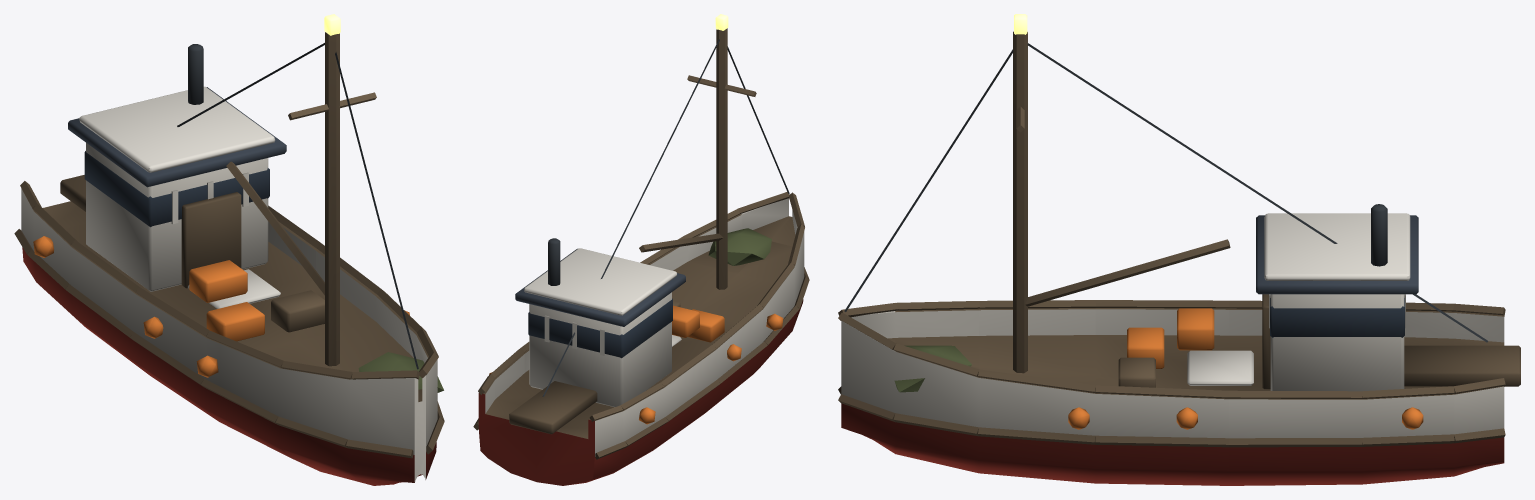
Rendered from boat.glb.
The picture shows the model from 3 angles, left to right: view 1: azimuth 30°, elevation 25°; view 2: azimuth 150°, elevation 25°; view 3: azimuth 270°, elevation 25°; orthographic projection. The views are drawn at different scales.
Parts seen in each view (by area): view 1: boat_wood, boat_white_paint, boat_red_timber, boat_snow, boat_signal_orange, boat_glass, boat_slate, boat_iron, boat_olive; view 2: boat_wood, boat_white_paint, boat_red_timber, boat_snow, boat_glass, boat_signal_orange, boat_slate, boat_iron, boat_olive; view 3: boat_white_paint, boat_wood, boat_red_timber, boat_snow, boat_signal_orange, boat_glass, boat_slate, boat_iron, boat_olive.
Boxes of the visible parts, box(x1,y1,x2,y2) form: boat_wood: box(14, 32, 444, 458); boat_white_paint: box(21, 143, 437, 481); boat_red_timber: box(22, 247, 436, 485); boat_snow: box(79, 86, 280, 308); boat_signal_orange: box(33, 236, 409, 377); boat_glass: box(84, 151, 269, 227); boat_slate: box(68, 87, 286, 187); boat_iron: box(177, 43, 418, 369); boat_olive: box(358, 352, 443, 392); boat_wood: box(473, 28, 809, 459); boat_white_paint: box(485, 198, 804, 456); boat_red_timber: box(478, 299, 803, 485); boat_snow: box(524, 248, 681, 346); boat_glass: box(528, 298, 672, 358); boat_signal_orange: box(489, 305, 783, 424); boat_slate: box(515, 248, 685, 326); boat_iron: box(542, 39, 789, 396); boat_olive: box(708, 228, 771, 265); boat_white_paint: box(841, 294, 1504, 438); boat_wood: box(838, 31, 1520, 447); boat_red_timber: box(841, 403, 1504, 485); boat_snow: box(1187, 213, 1410, 385); boat_signal_orange: box(1068, 308, 1423, 429); boat_glass: box(1270, 298, 1404, 337); boat_slate: box(1256, 215, 1418, 294); boat_iron: box(844, 43, 1487, 342); boat_olive: box(894, 345, 971, 392).
Bounding box in the file's own units: 2.99 × 6.03 × 8.19.
